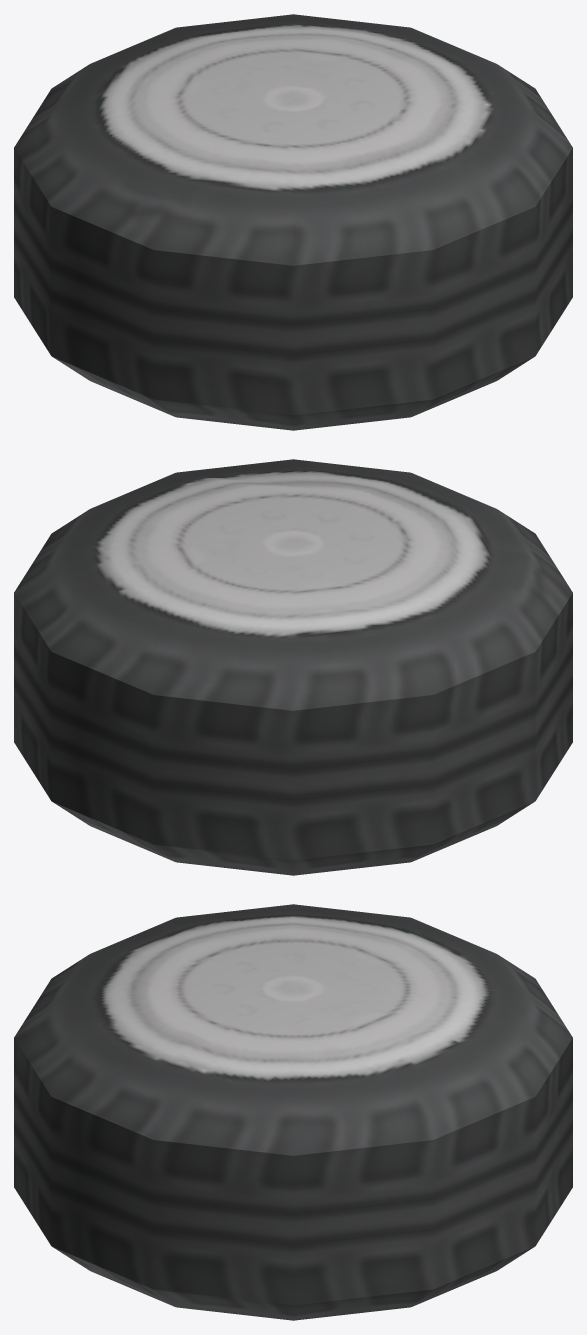
Rendered from Pfb_Truck_02_Tyre.fbx.
3 renders of one model, top to bottom at view 1: azimuth 30°, elevation 25°; view 2: azimuth 150°, elevation 25°; view 3: azimuth 270°, elevation 25°, orthographic.
Visible parts, largest first — view 1: Mat_Truck_02_01; view 2: Mat_Truck_02_01; view 3: Mat_Truck_02_01.
Part boxes in pixels (left/top/right/bottom): Mat_Truck_02_01: left=14, top=14, right=572, bottom=430; Mat_Truck_02_01: left=14, top=459, right=572, bottom=875; Mat_Truck_02_01: left=14, top=904, right=572, bottom=1320.
Size of the model in its own units: 1.04 by 0.5103 by 1.04.
1 material, 1 textured.
